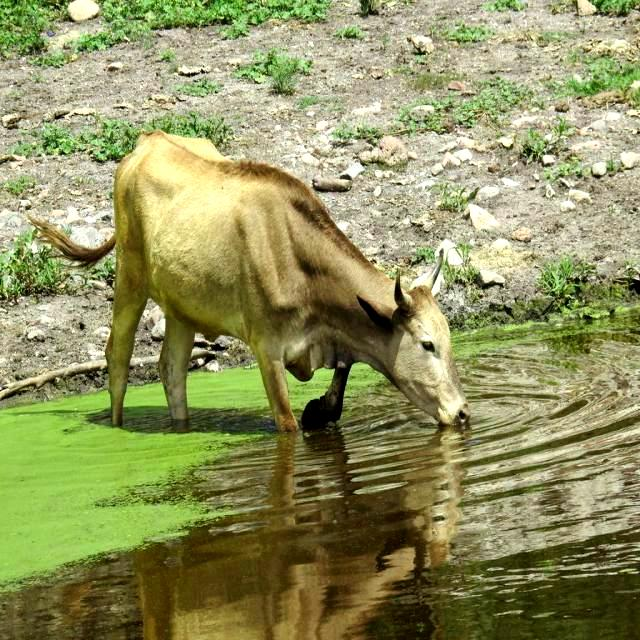COW: (31, 131, 469, 431)
